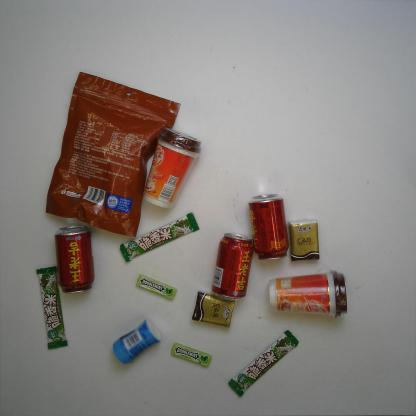Chocolate: (228, 330, 300, 396), (119, 211, 200, 263), (36, 266, 69, 350)
Dried Food: (45, 71, 181, 237)
Drink: (212, 233, 254, 302), (248, 193, 289, 260), (54, 226, 94, 294)
Gum: (113, 318, 161, 364), (136, 274, 177, 300), (170, 343, 212, 367)
Instant Drink: (143, 128, 201, 210), (269, 271, 348, 320)
Tissue: (191, 291, 237, 328), (287, 219, 320, 261)
